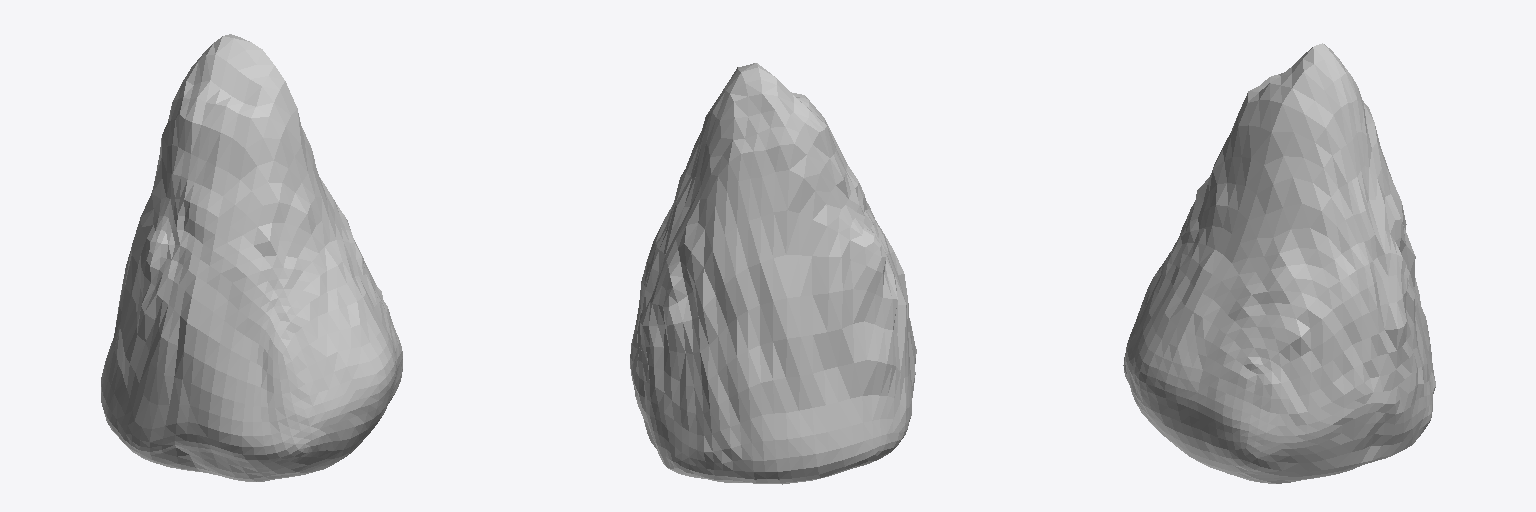
Rendered from rock3.obj.
The picture shows the model from 3 angles: view 1: azimuth 30°, elevation 25°; view 2: azimuth 150°, elevation 25°; view 3: azimuth 270°, elevation 25°; orthographic projection.
Visible parts, largest first — view 1: rock_03.006; view 2: rock_03.006; view 3: rock_03.006.
Part boxes in pixels (x1,y1,x2,y2): rock_03.006: (101, 34, 402, 481); rock_03.006: (630, 63, 916, 484); rock_03.006: (1123, 43, 1435, 483).
Size of the model in its own units: 1.54 by 2.32 by 1.59.